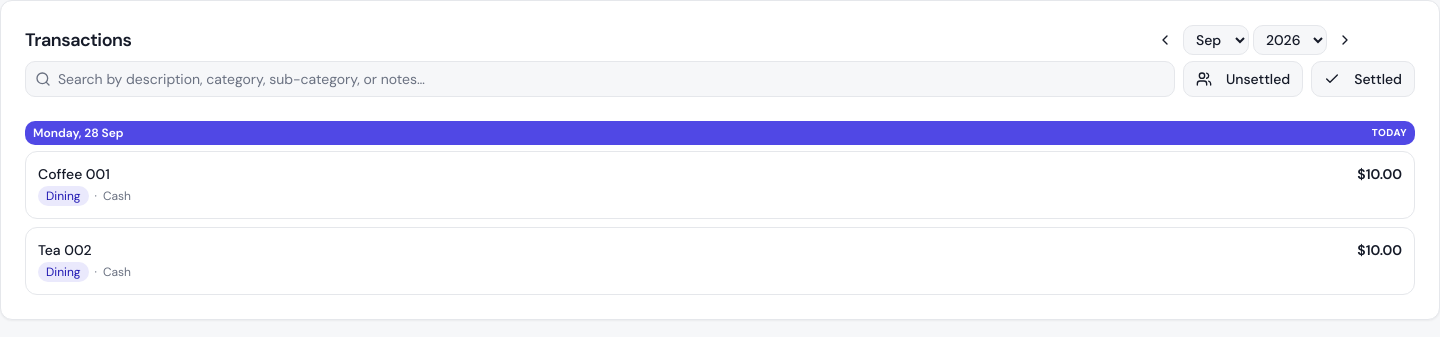
Scenario: TransactionList search › returns to the month view when the search is cleared
The width and height of the screenshot is (1440, 337).
In the field with placeholder "Search by description, category, sub-category, or notes…": (600, 79) [25,61,1175,97], type "coffee"
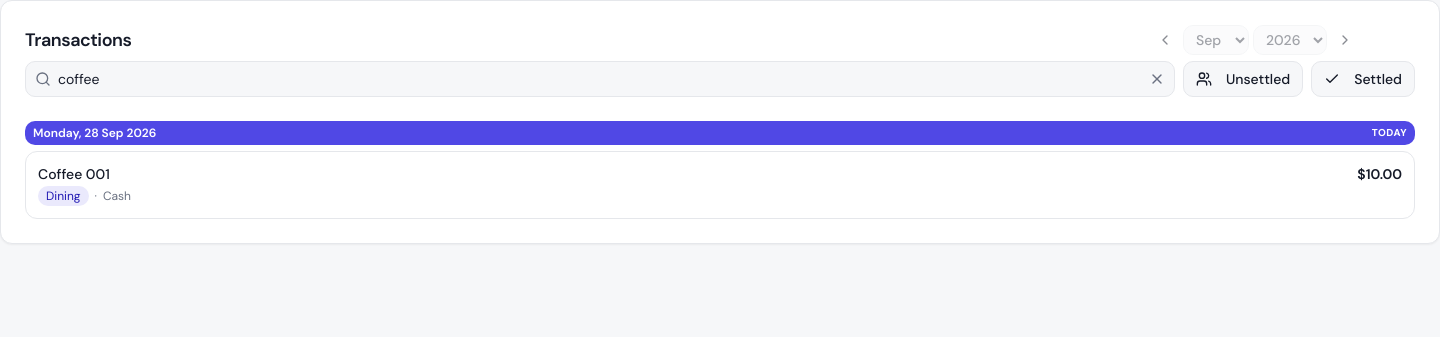
Expected: the text "Coffee 001" is shown once, [38,165,110,183]
Clear the field with placeholder "Search by description, category, sub-category, or notes…": (600, 79) [25,61,1175,97]
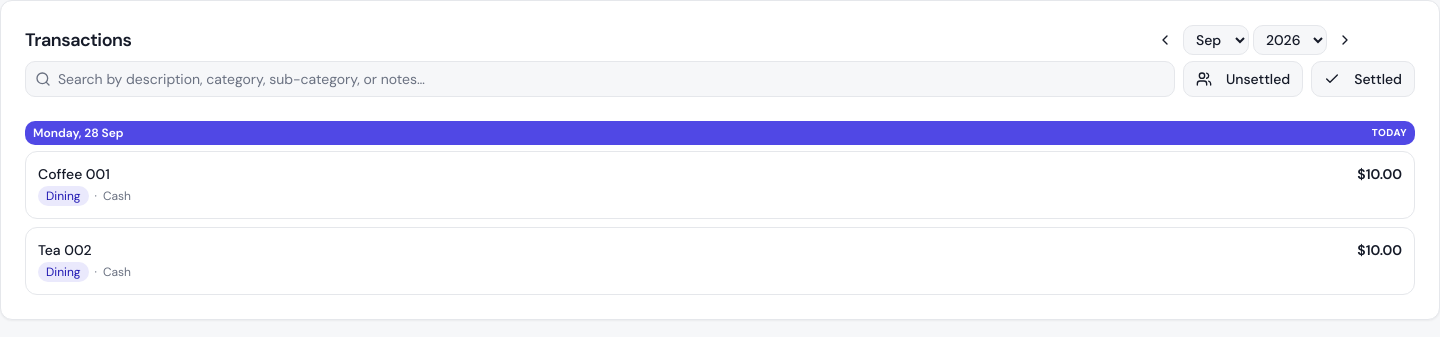
Expected: the text "Tea 002" is shown, [38,241,92,259]
Expected: the text "Coffee 001" is shown once, [38,165,110,183]
